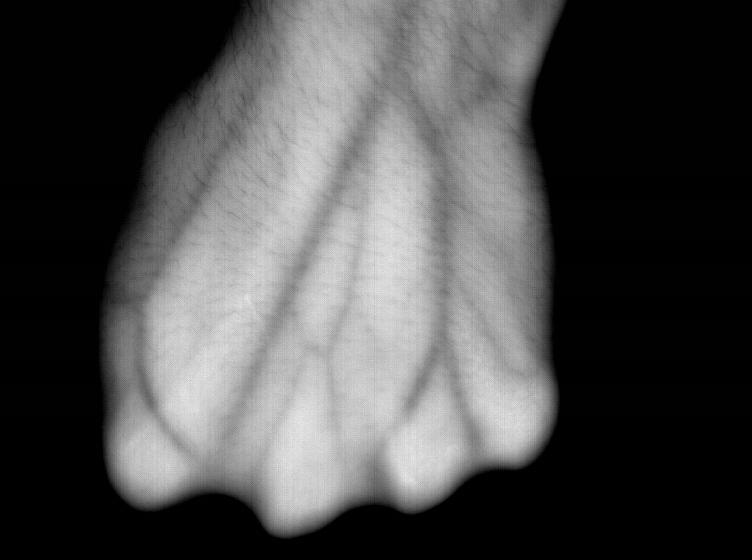Vein: (238, 8, 470, 422)
